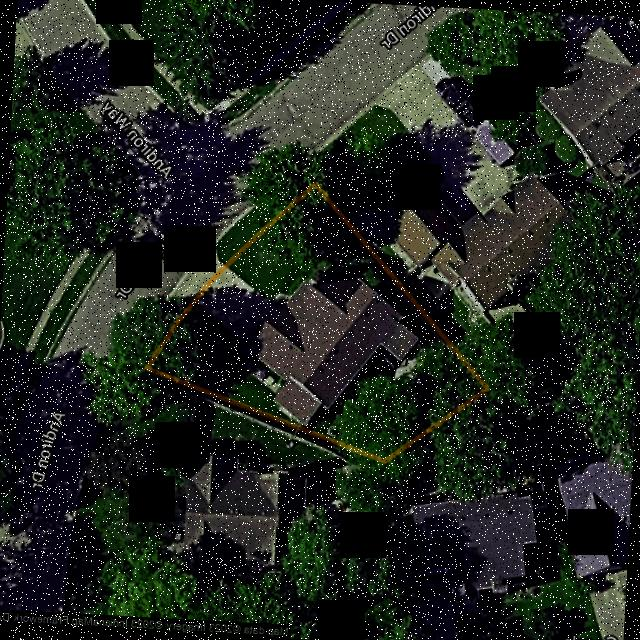Driveway: (195, 265, 279, 355)
Extra Driveway: (167, 243, 223, 296)
Extra Lawn: (215, 163, 314, 264), (124, 294, 196, 368)
House: (259, 266, 417, 423)
Other: (240, 355, 283, 392)
